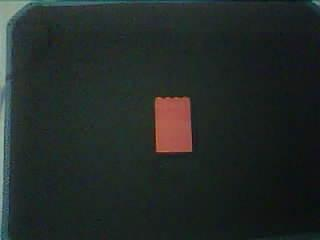lego: (152, 95, 194, 155)
